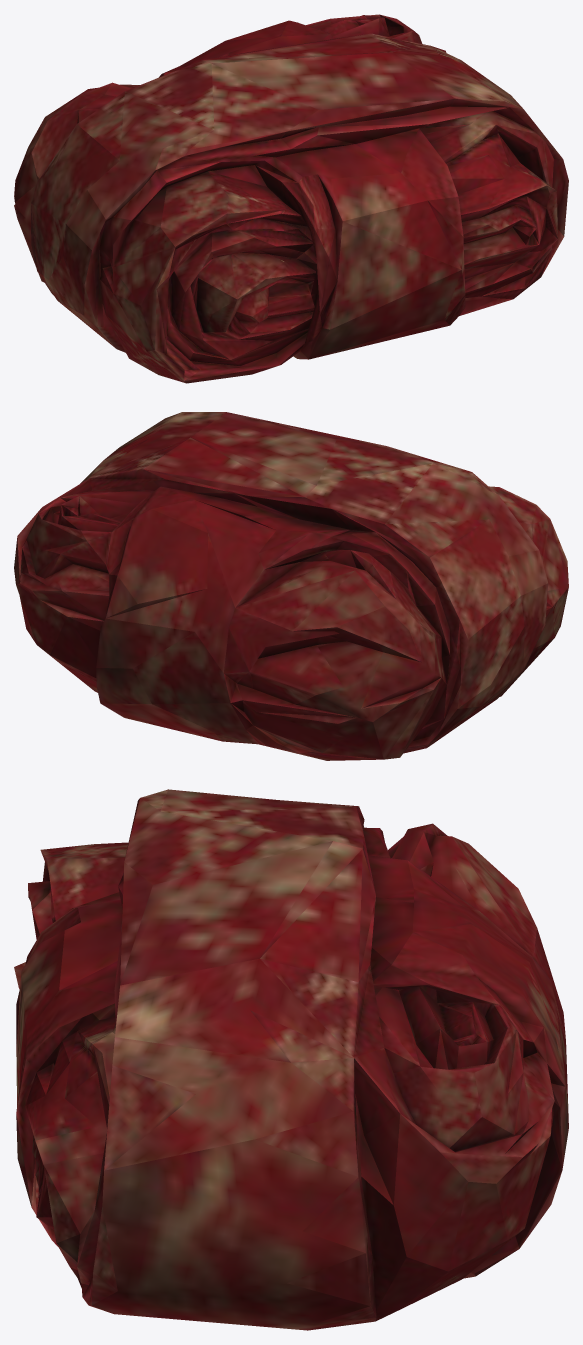
The model's file is ppalgan_daenggi.glb.
3 renders of one model, top to bottom at view 1: azimuth 30°, elevation 25°; view 2: azimuth 150°, elevation 25°; view 3: azimuth 270°, elevation 25°, orthographic. The views are drawn at different scales.
Size of the model in its own units: 1.89 by 0.9841 by 1.39.
1 material, 1 textured.
